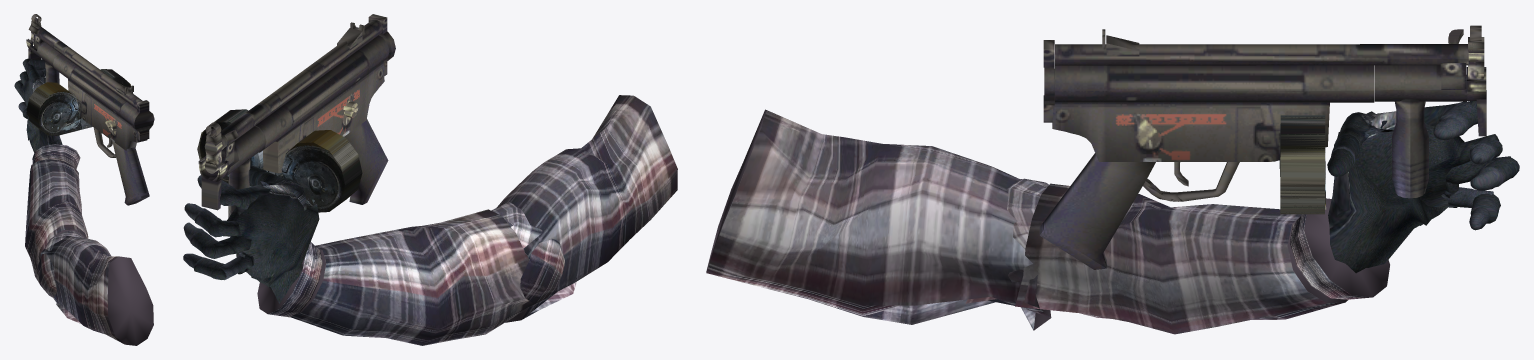
Rendered from mp5kex_ads.fbx.
3 views of the same model, side by side, from view 1: azimuth 30°, elevation 25°; view 2: azimuth 150°, elevation 25°; view 3: azimuth 270°, elevation 25° (orthographic). The views are drawn at different scales.
Parts seen in each view (by area): view 1: larm, mp5k_body, cmag, lhand, pistol_grip_mp5k, mp5k_grip, mp5kRear, mp5k_guard; view 2: larm, lhand, mp5k_body, cmag, mp5k_grip, pistol_grip_mp5k, mp5k_barrel, mp5kRear; view 3: larm, mp5k_body, lhand, mp5k_grip, pistol_grip_mp5k, cmag, mp5k_guard, mp5kRear.
Boxes of the visible parts, x1,y1,x2,y2 form: larm: (25, 144, 153, 345); mp5k_body: (34, 26, 147, 150); cmag: (26, 69, 130, 135); lhand: (14, 58, 62, 152); pistol_grip_mp5k: (112, 141, 149, 205); mp5k_grip: (26, 34, 59, 83); mp5kRear: (131, 100, 154, 140); mp5k_guard: (93, 127, 115, 157); larm: (257, 95, 677, 345); lhand: (183, 165, 319, 303); mp5k_body: (213, 19, 389, 173); cmag: (197, 109, 362, 212); mp5k_grip: (198, 126, 264, 217); pistol_grip_mp5k: (344, 119, 388, 204); mp5k_barrel: (204, 141, 222, 173); mp5kRear: (368, 14, 395, 75); larm: (706, 109, 1389, 334); mp5k_body: (1052, 44, 1468, 161); lhand: (1327, 101, 1519, 273); mp5k_grip: (1374, 63, 1486, 198); pistol_grip_mp5k: (1039, 153, 1155, 269); cmag: (1279, 115, 1326, 214); mp5k_guard: (1143, 162, 1239, 201); mp5kRear: (1043, 40, 1054, 122).
Size of the model in its own units: 10.87 by 12.17 by 23.54.
